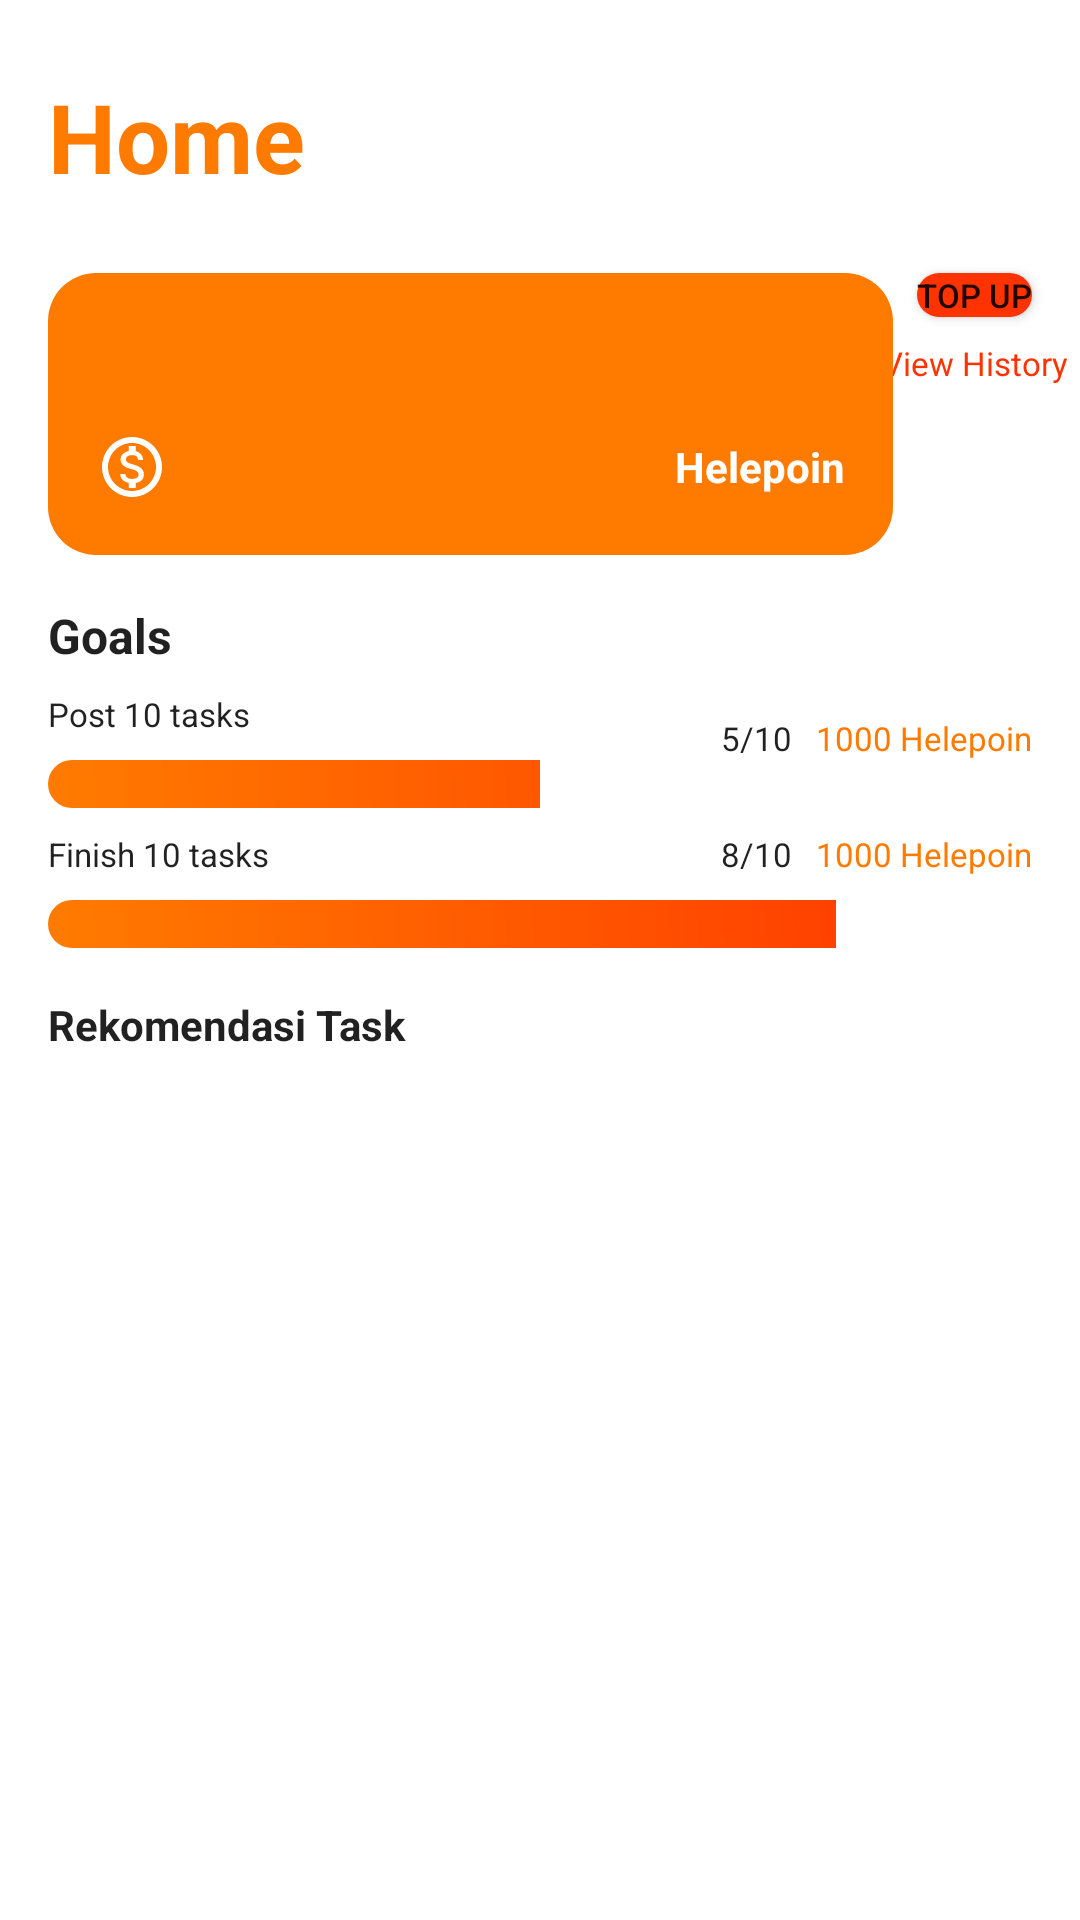

Screen size 1080 × 1920. Icon name, then its center in pixels as [x,y]:
monetization on: [132,467]
